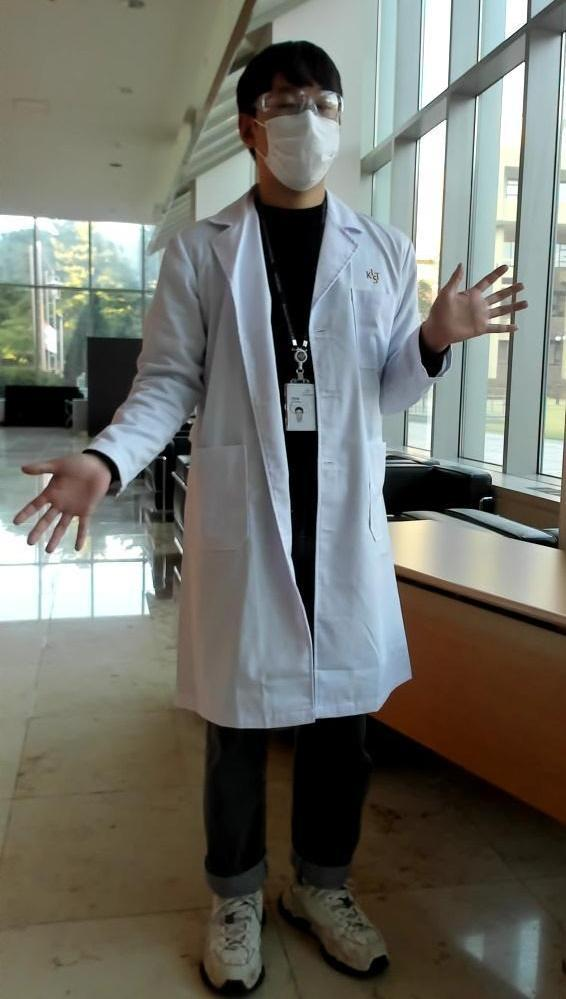lab_coat: (158, 230, 414, 731)
